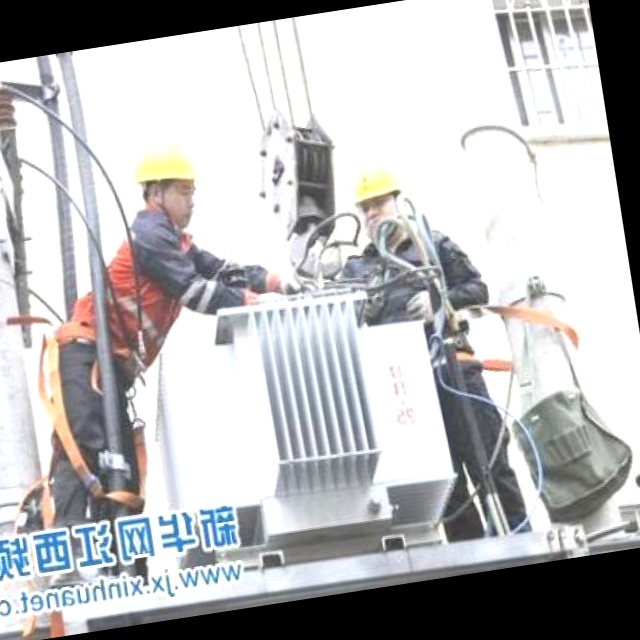Con_Casco: (126, 132, 208, 233), (343, 154, 412, 239)
